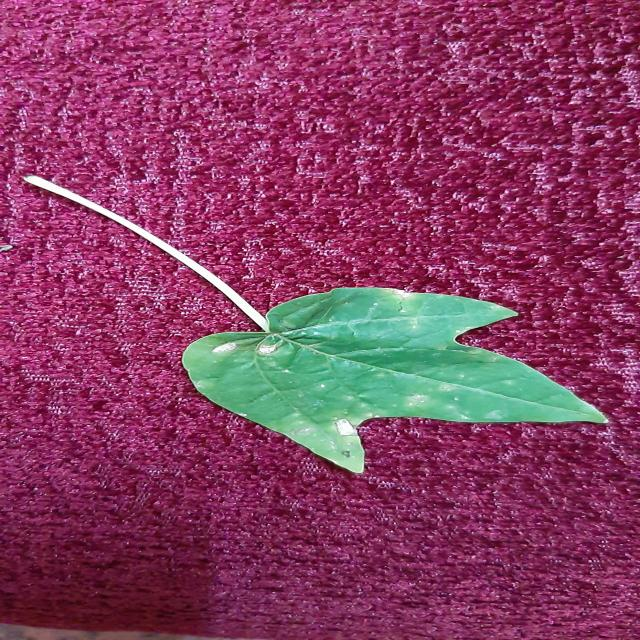papaya: (182, 288, 607, 472)
